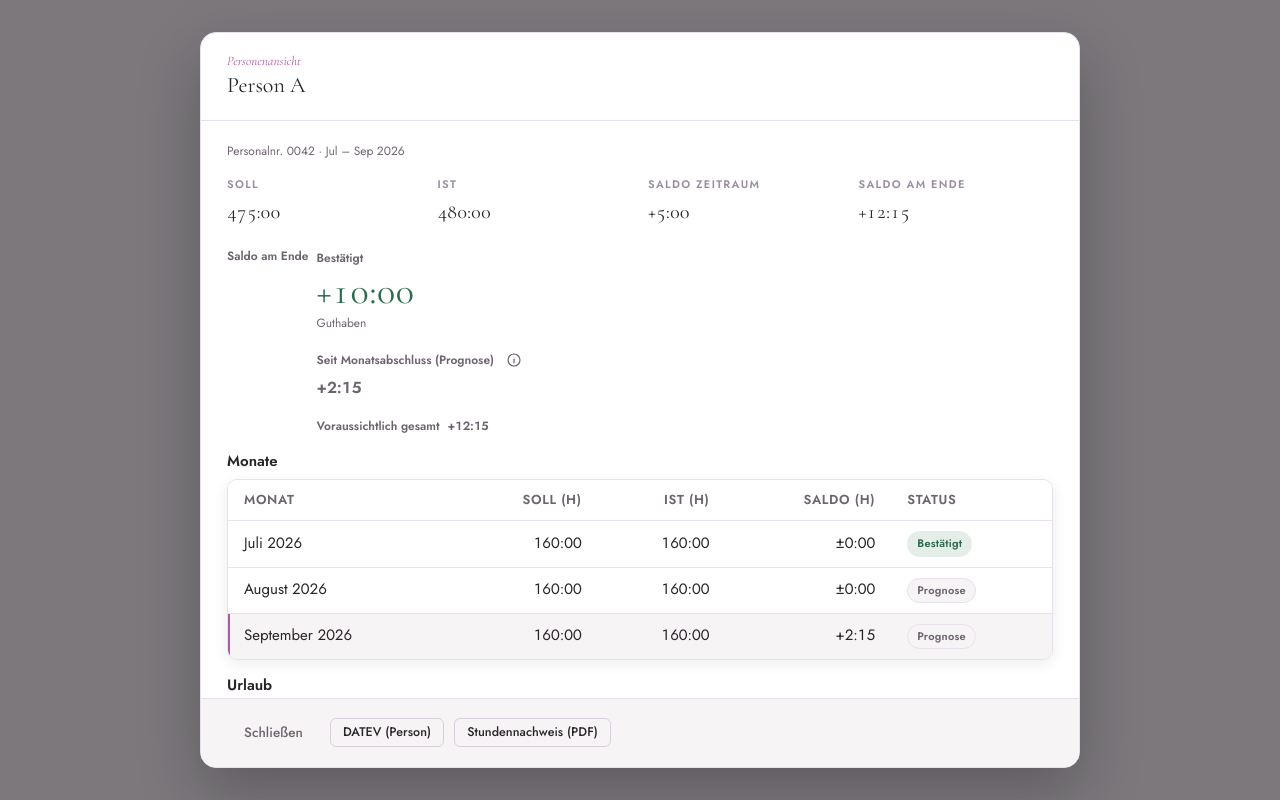
PersonDrilldown - the month series › selects the last month by default and moves the selection on a click
Click the button "Juli 2026": x=273, y=544 244,532 -> 302,556
(page scrolled)
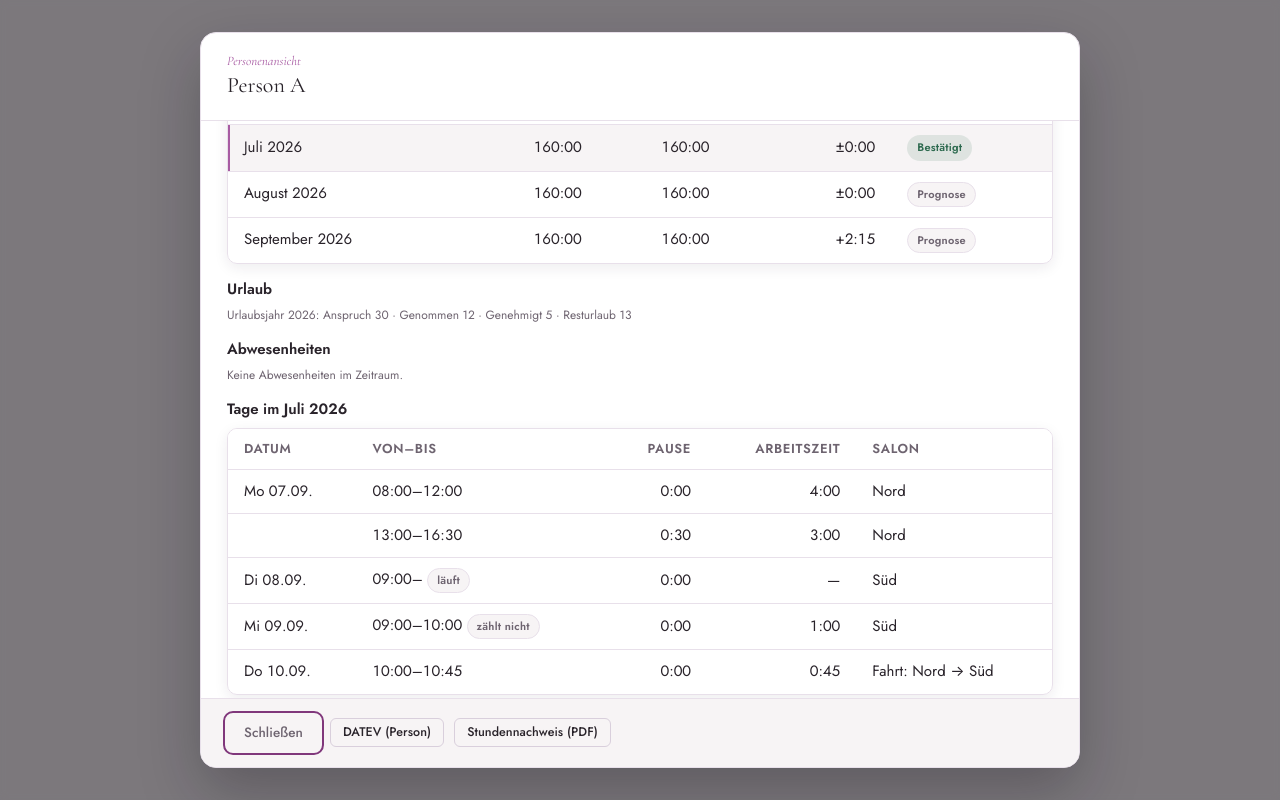
Check: the heading "Tage im Juli 2026" is shown, box 227,398 -> 347,420
